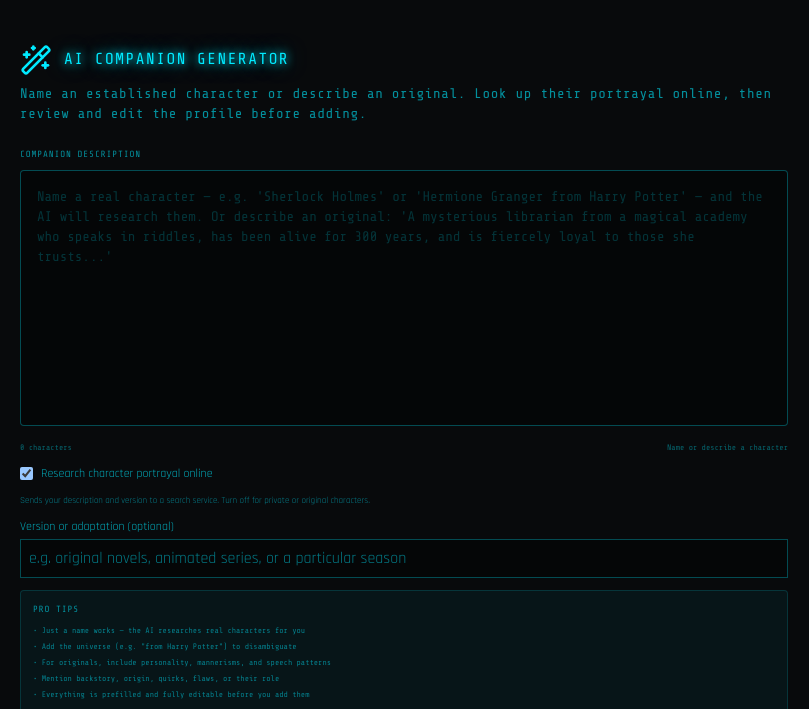
Test case: character setup research › shows an unverified-draft message when the search fails
Replace the text in the text box with placeholder "Name a real character" with "Holmes". click: (404, 298)
box: [20, 170, 788, 426]
(page scrolled)
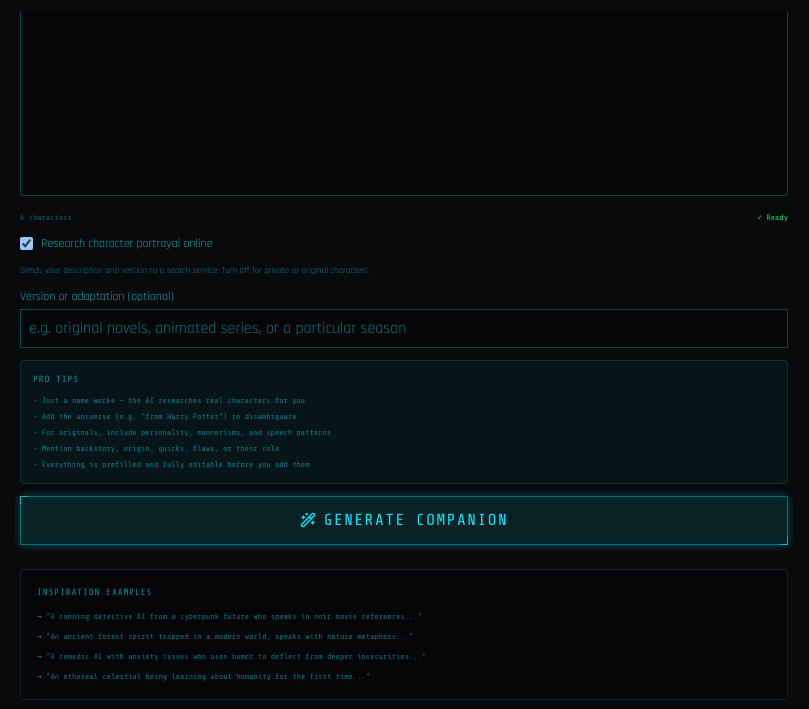
Click the button "Generate Companion". click: click(404, 520)
box: [20, 496, 788, 545]
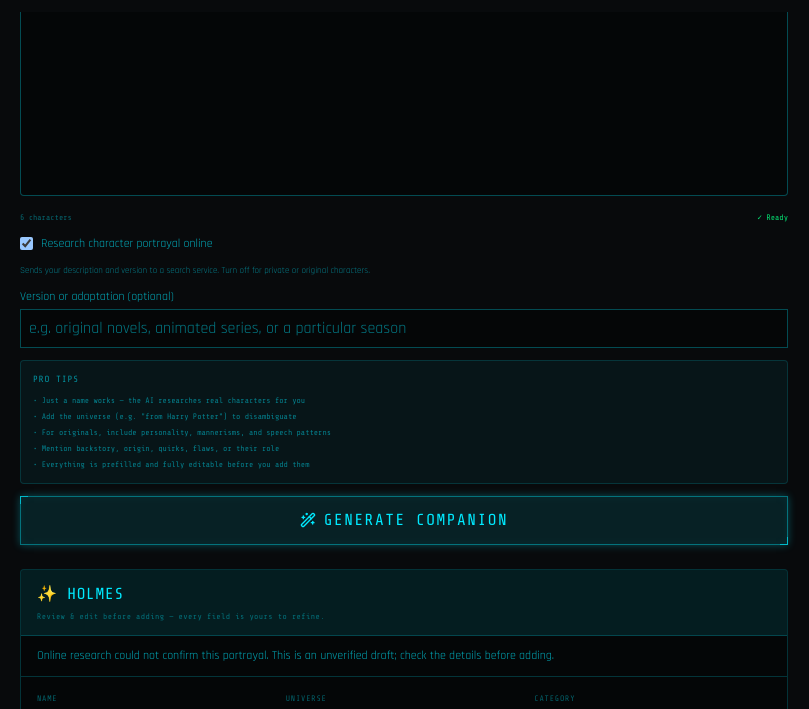
Expected: the text "This is an unverified draft" is shown, [37, 648, 554, 662]
